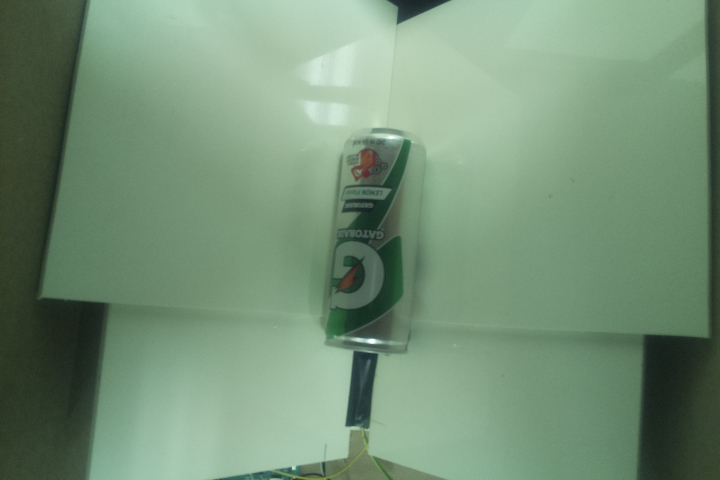can: (319, 123, 430, 355)
